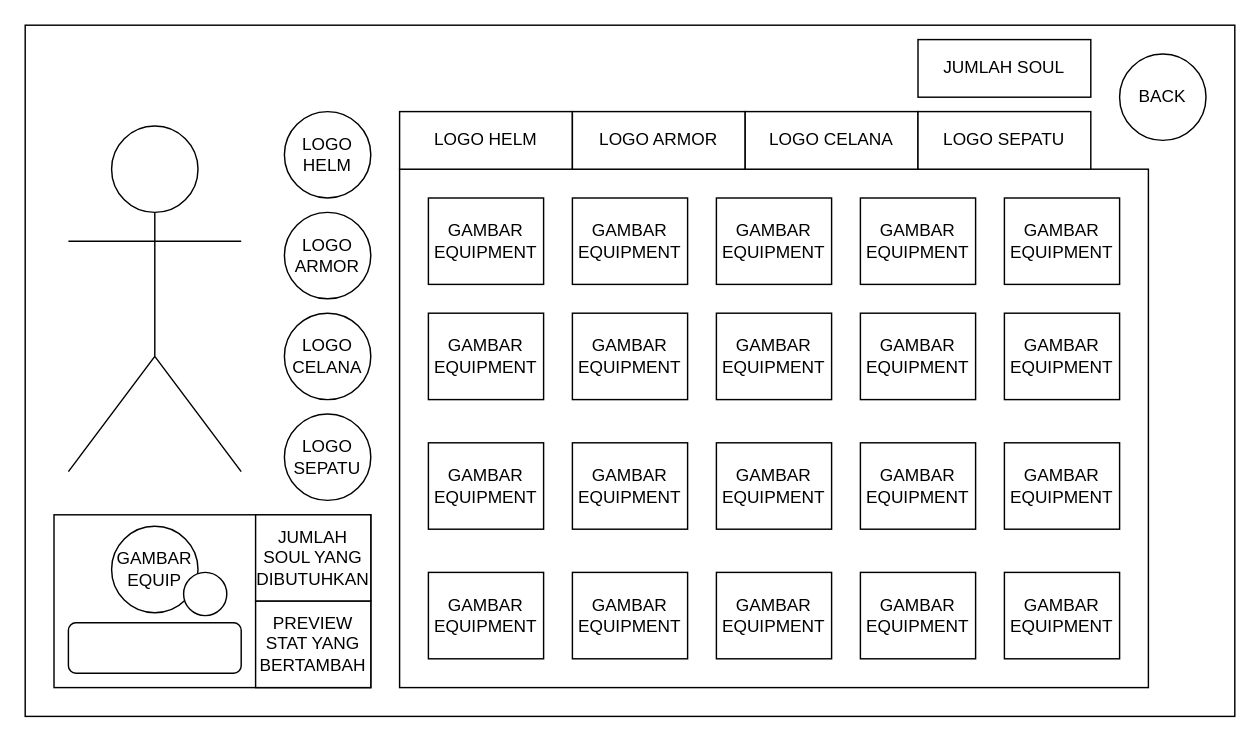
Image size: 1260x742. Some labels were removed from this diagram. Here are the shapes that lost their labels. From the top down, the centre of each, then its label:
[204,593]: LV
[154,647]: UPGRADE
